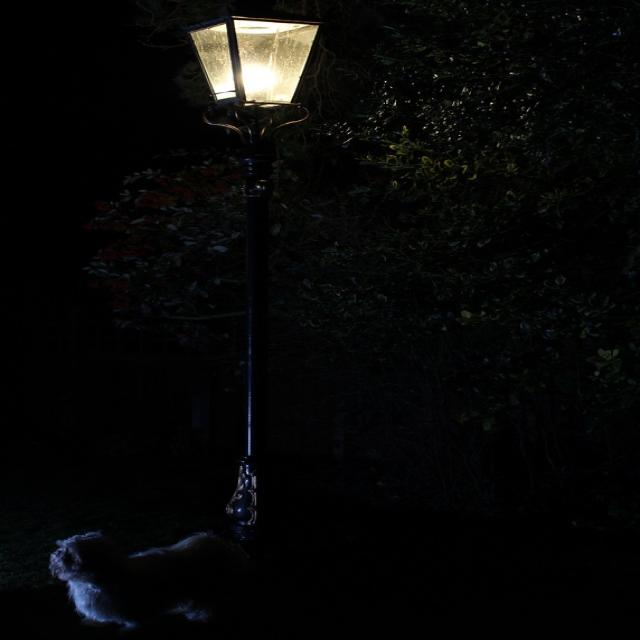Dog: (25, 510, 277, 640)
